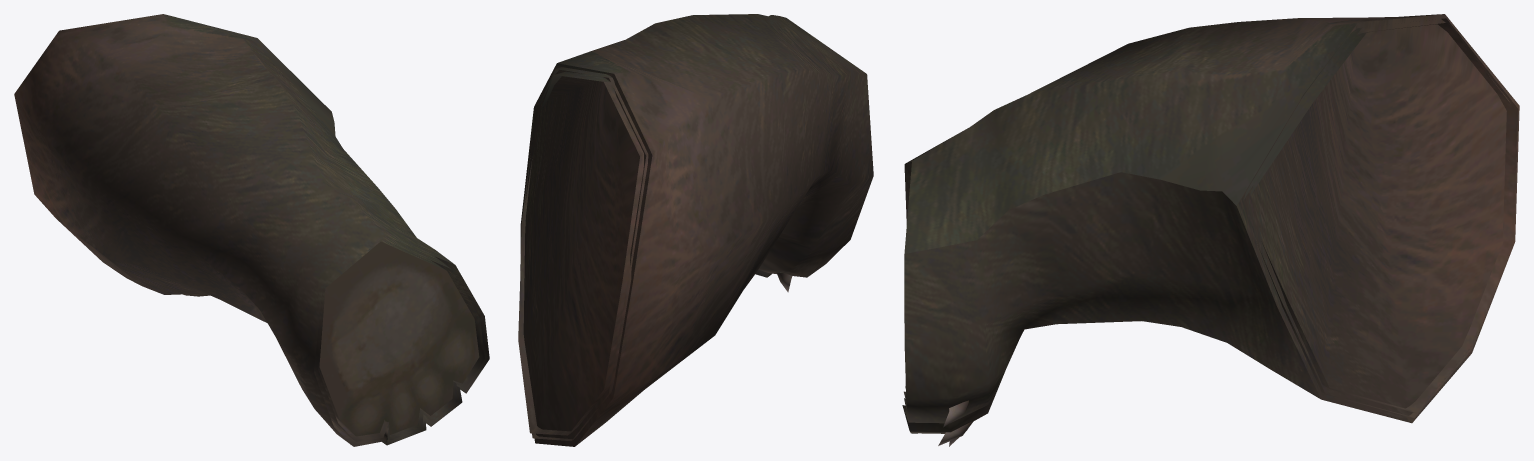
The model's file is left.fbx.
3 views of the same model, side by side, from view 1: azimuth 30°, elevation 25°; view 2: azimuth 150°, elevation 25°; view 3: azimuth 270°, elevation 25° (orthographic). The views are drawn at different scales.
Parts seen in each view (by area): view 1: Red Panda; view 2: Red Panda; view 3: Red Panda.
Boxes of the visible parts, <box> form: Red Panda: <box>14,14,489,446</box>; Red Panda: <box>518,14,873,446</box>; Red Panda: <box>902,14,1519,446</box>.
Bounding box in the file's own units: 2989 × 3730 × 5372.
